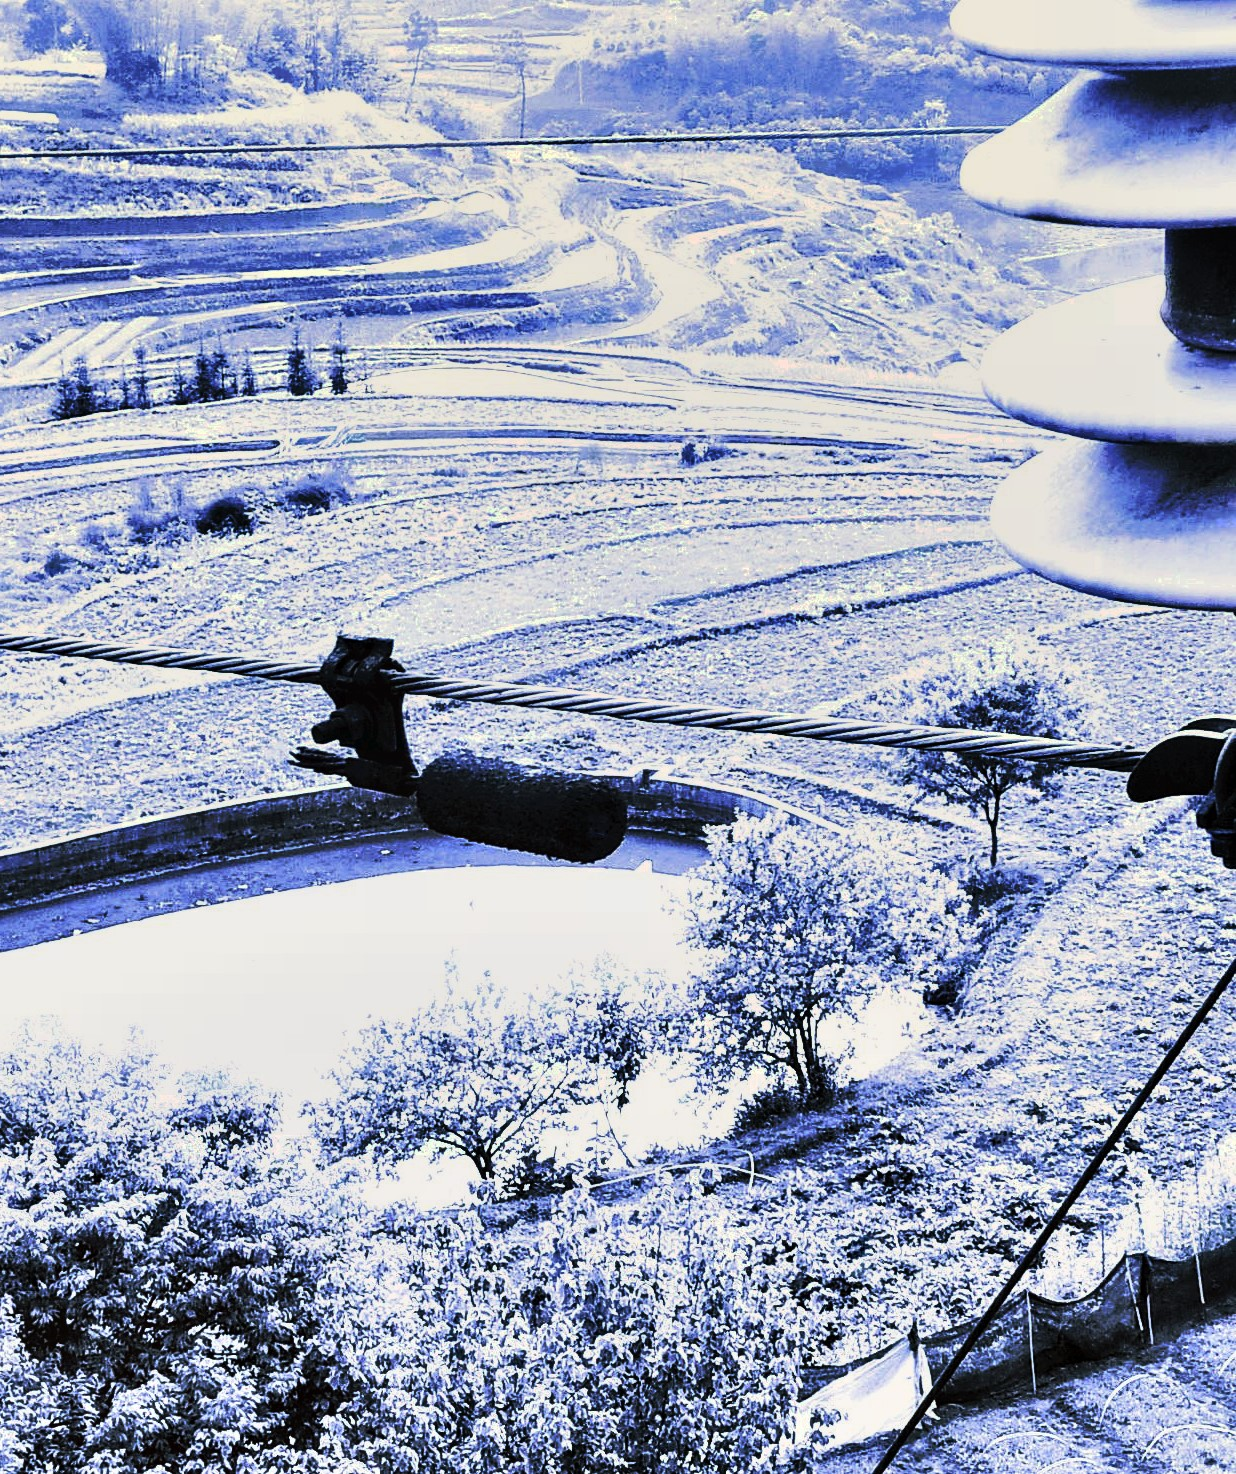Damage of shockproof hammer: (271, 622, 645, 882)
